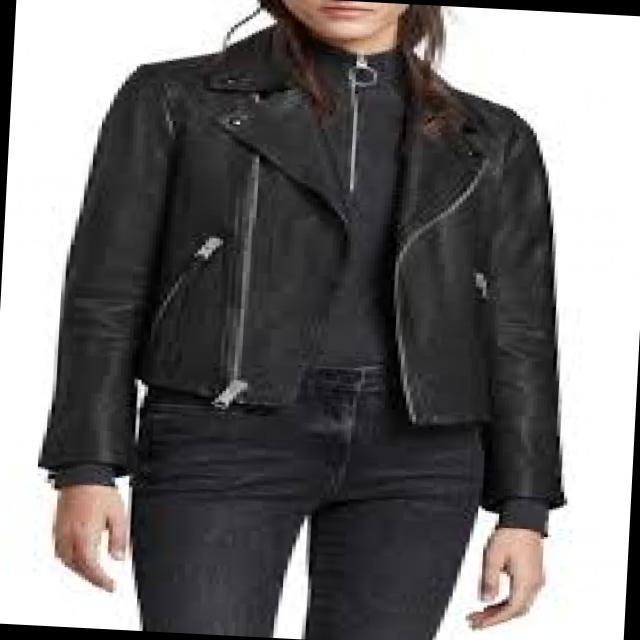Jacket: (24, 37, 602, 529)
